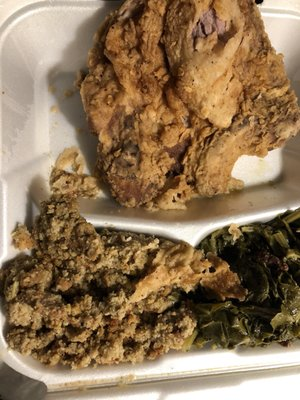sushi: (78, 0, 300, 211)
